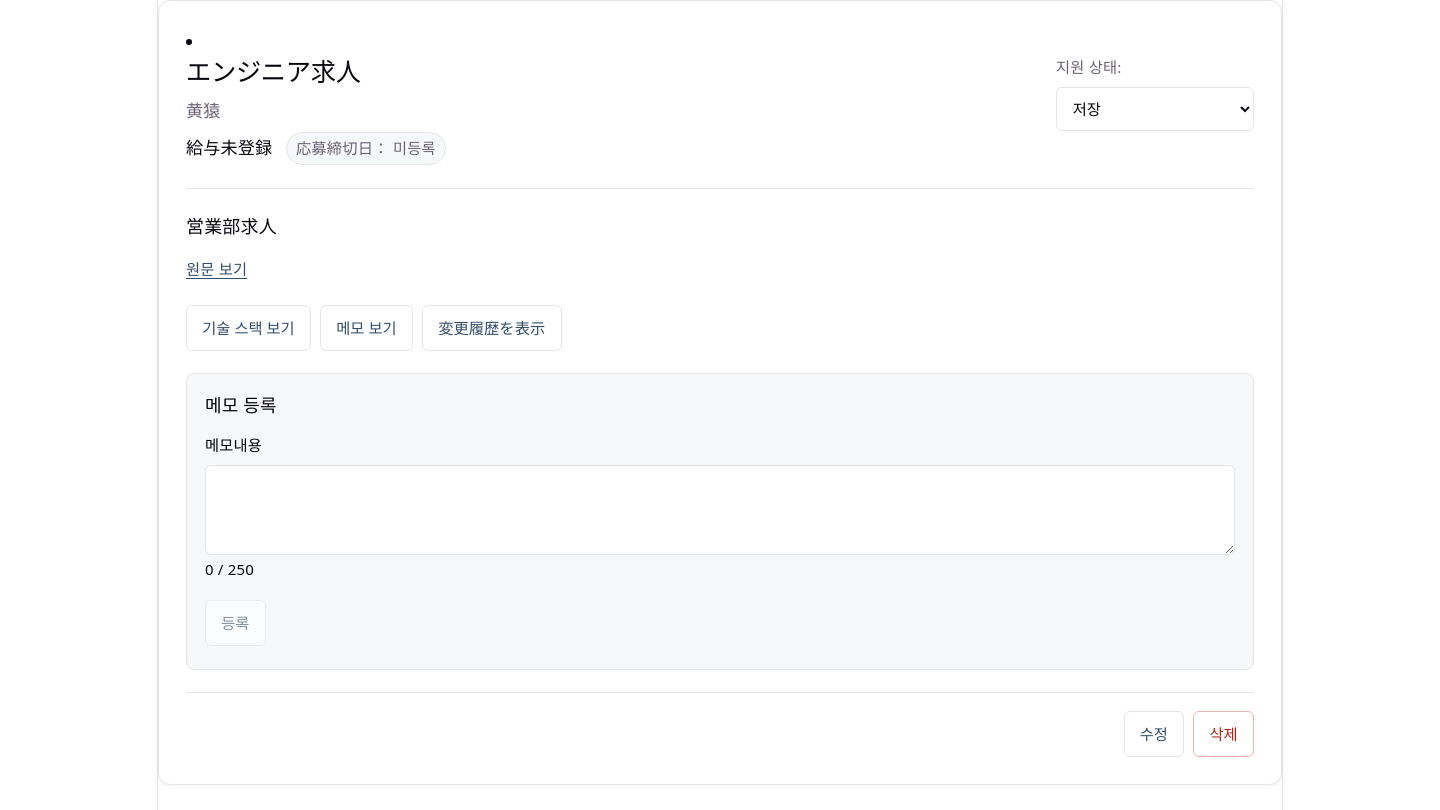
Test case: skills › 기술이 없는 공고의 경우 기술 스택 보기를 누르면 기술 없음 메시지를 표시한다
The image size is (1440, 810).
Step 1. Click the button "기술 스택 보기" → x=248, y=328, box [186,305,311,351]
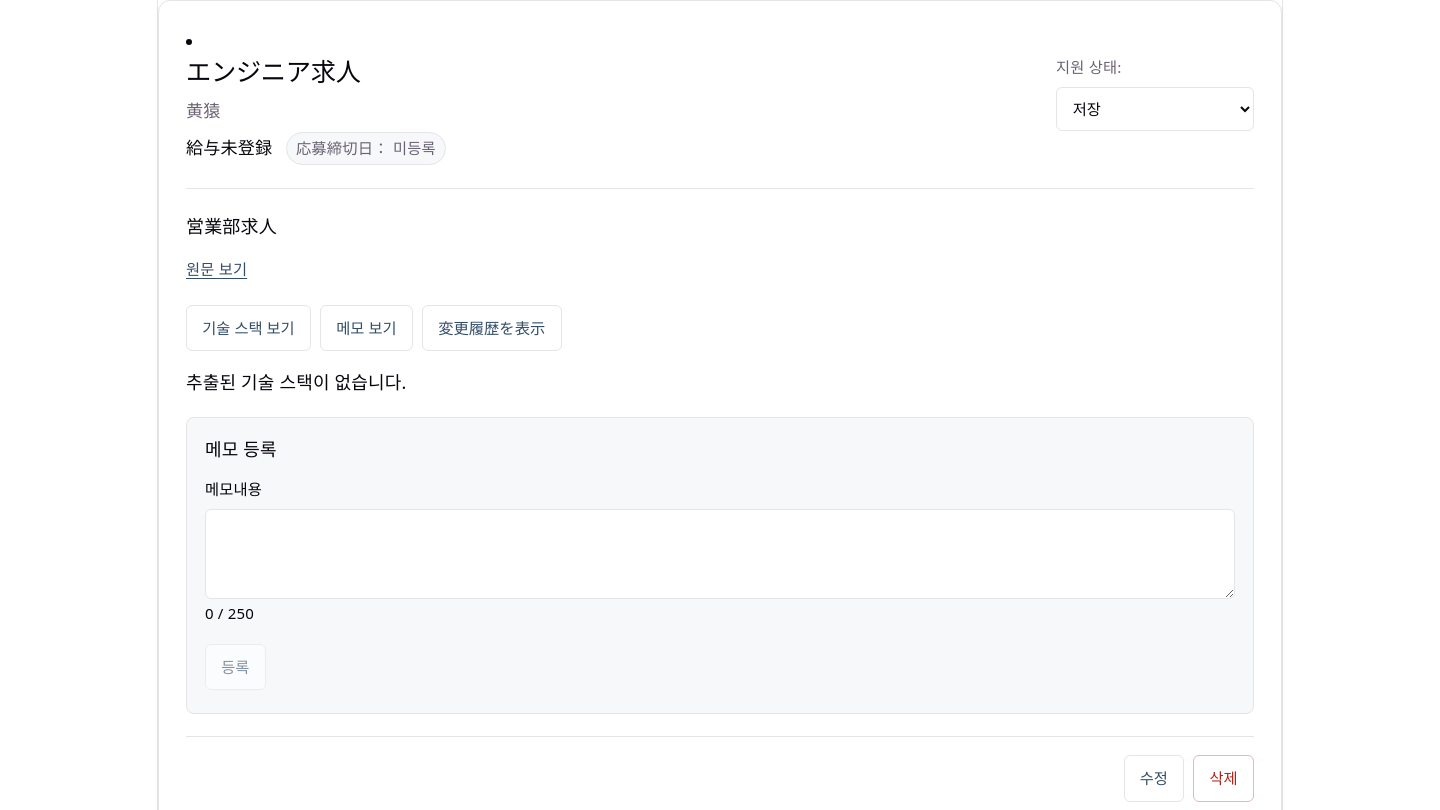
Expected: the text "추출된 기술 스택이 없습니다." is shown, [186,370,406,394]
